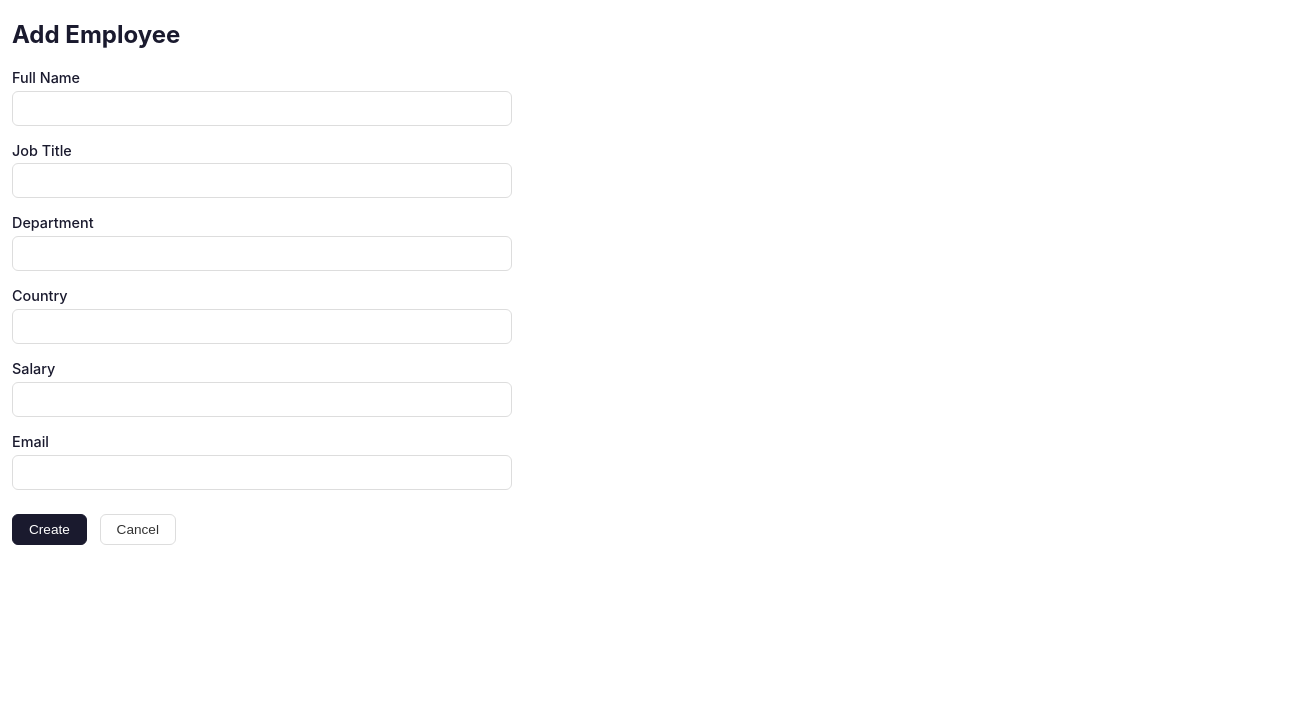
Test case: EmployeeFormPage › Create mode › shows API error string on failure
In the field labelled "Full Name": point(262, 108) [12, 91, 512, 126], type "Alice Smith"
In the field labelled "Job Title": point(262, 181) [12, 163, 512, 198], type "Engineer"
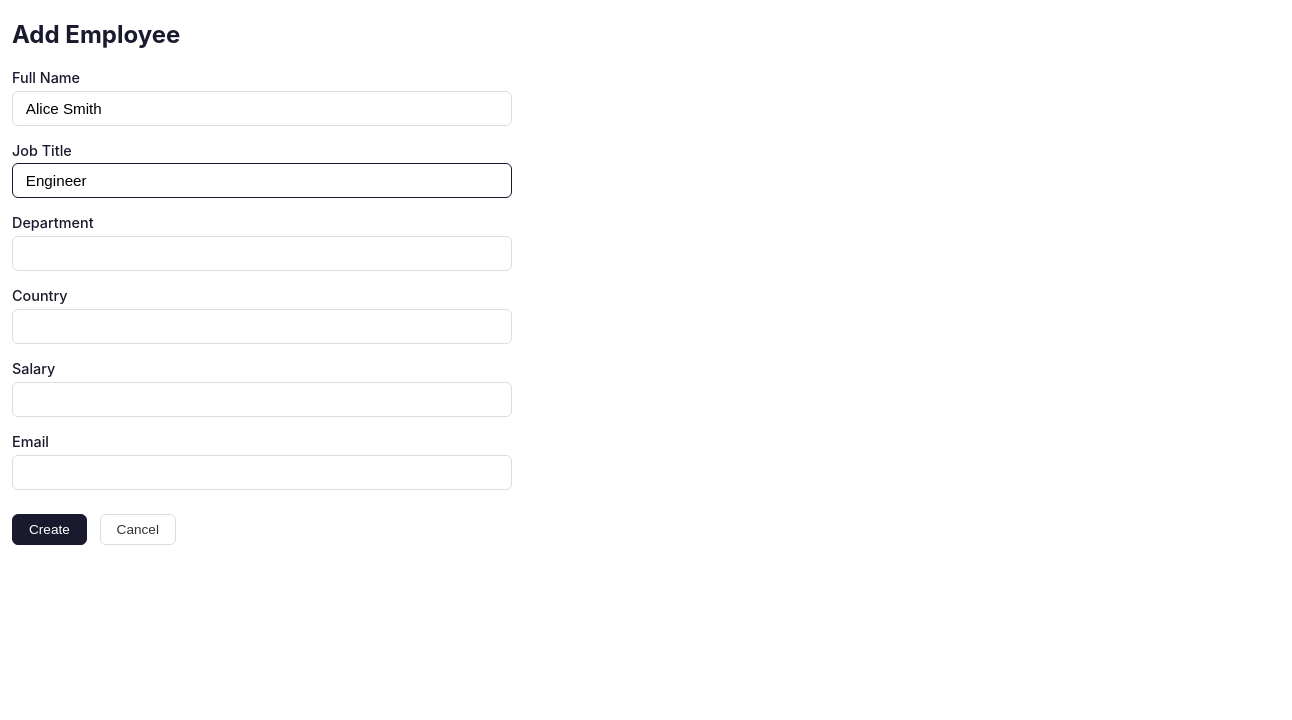
In the field labelled "Department": point(262, 254) [12, 236, 512, 271], type "Engineering"
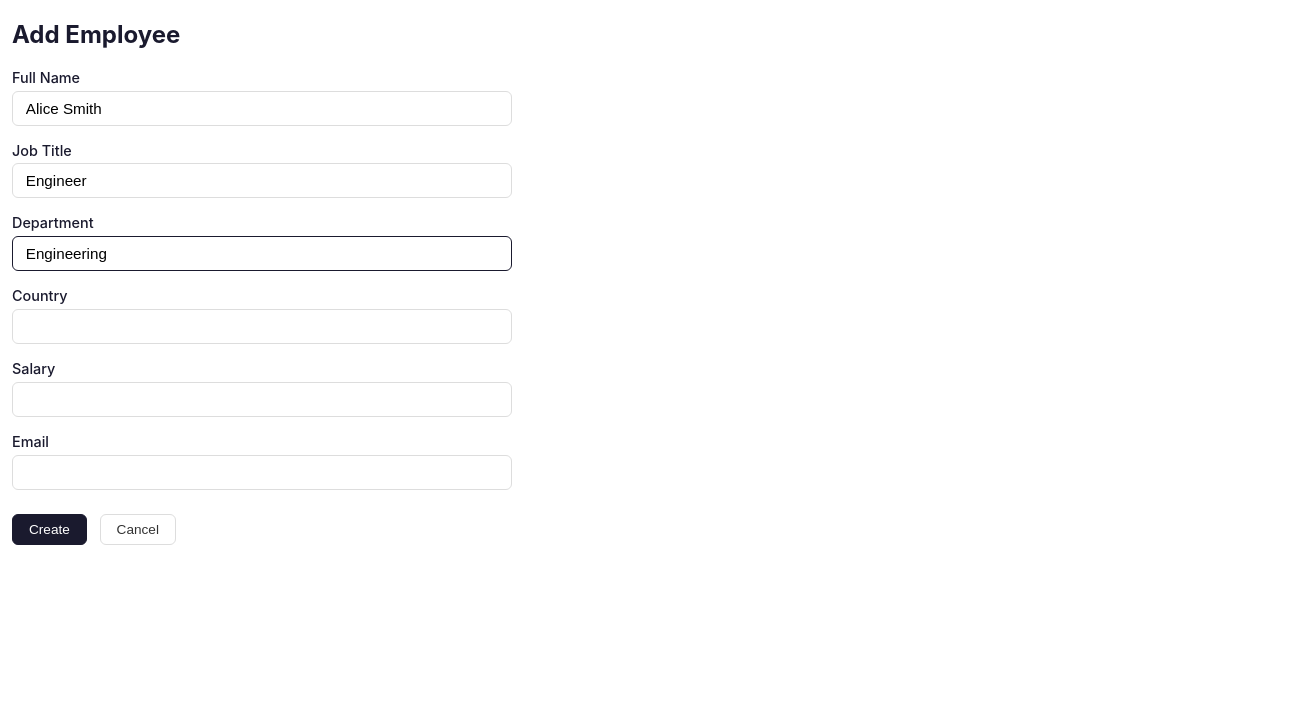
In the field labelled "Country": point(262, 326) [12, 309, 512, 344], type "India"
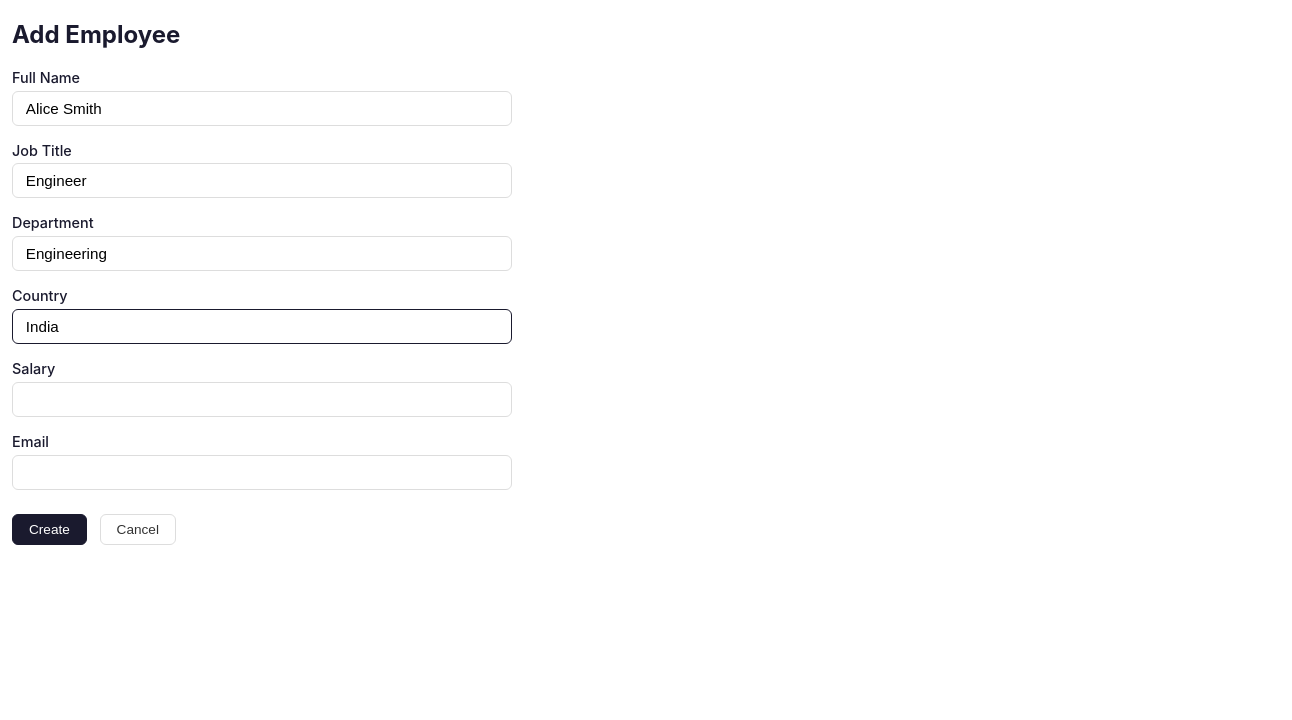
In the number field labelled "Salary": point(262, 399) [12, 382, 512, 417], type "80000"
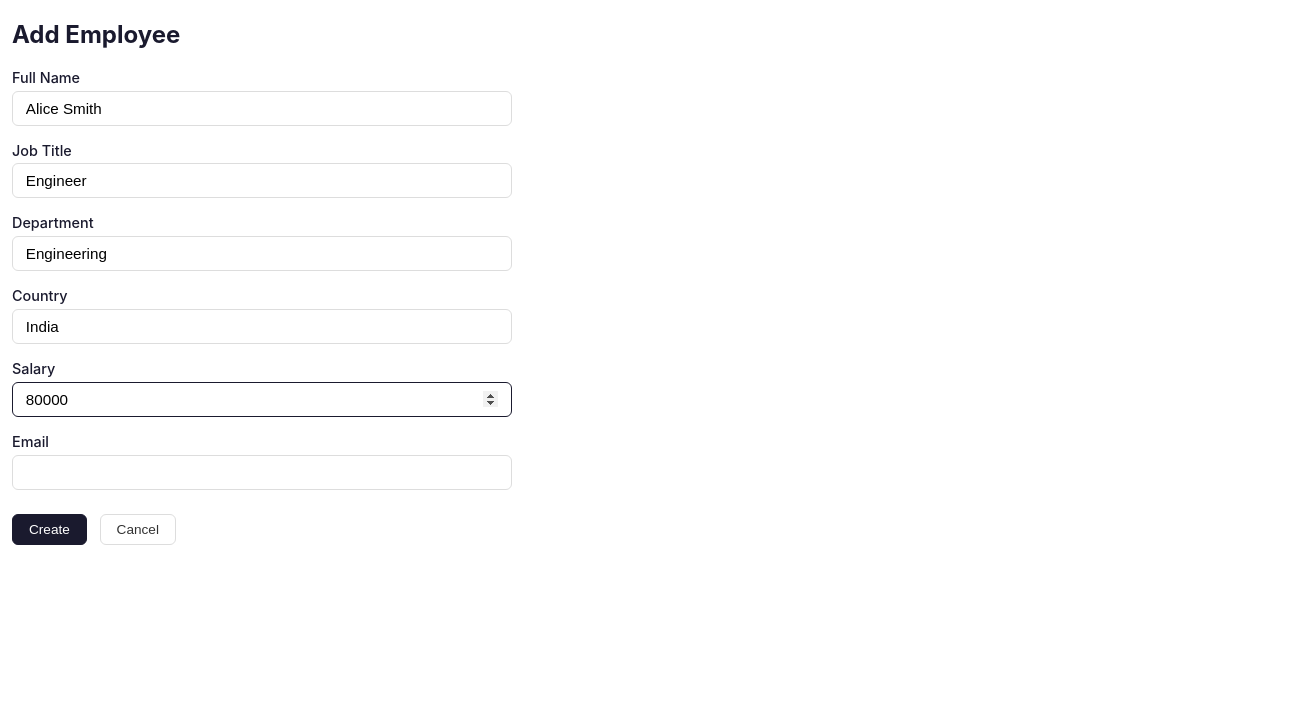
In the field labelled "Email": point(262, 472) [12, 455, 512, 490], type "alice@example.com"
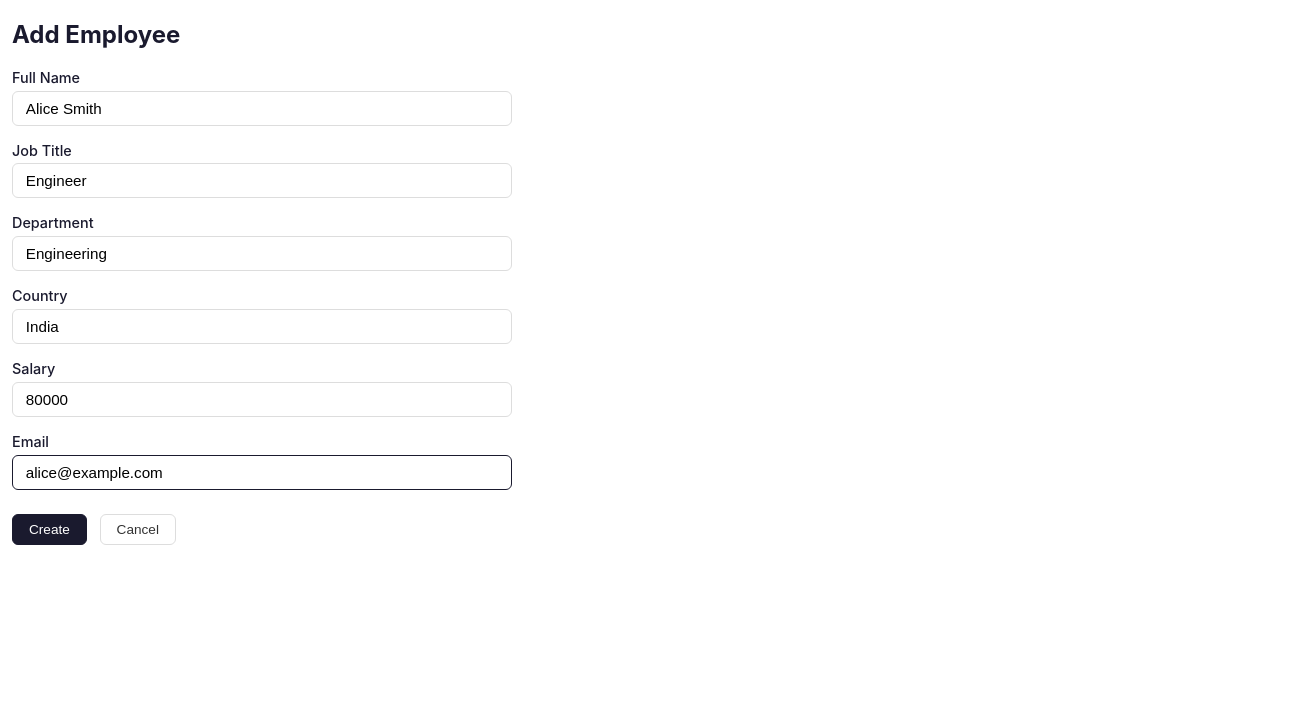
Click the button "Create": point(49, 529) [12, 514, 87, 545]
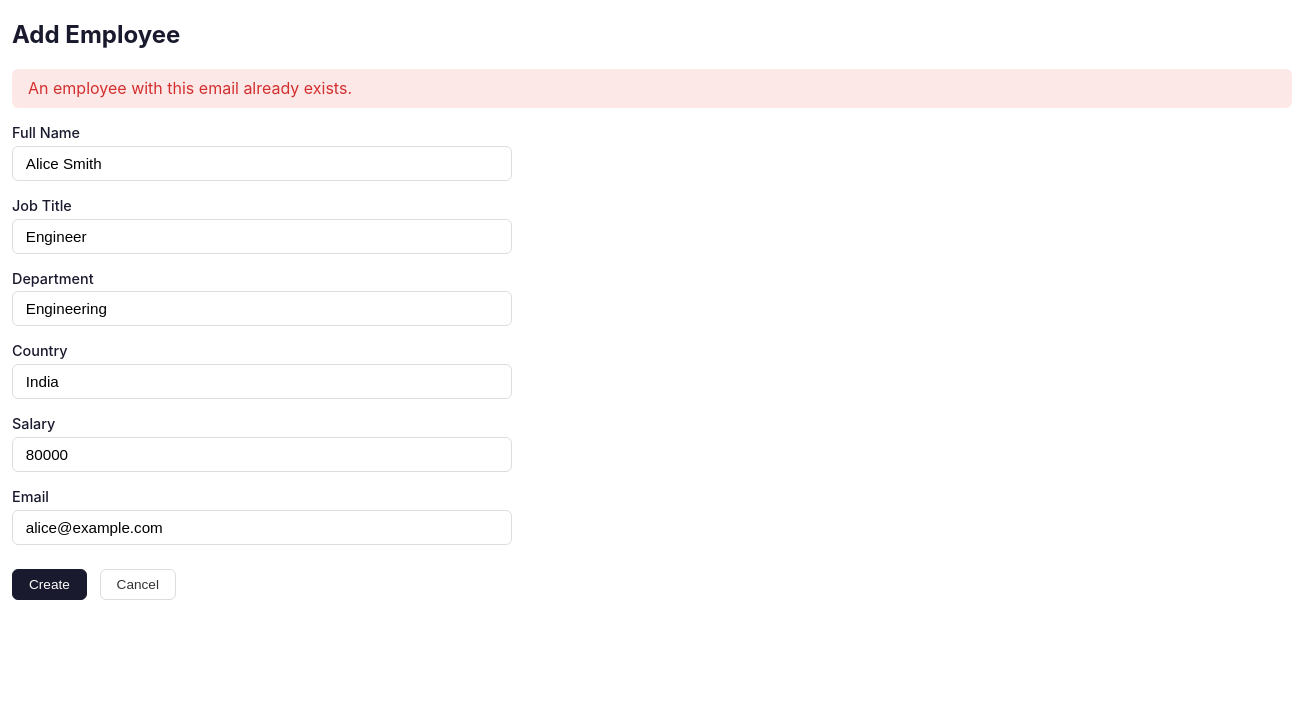
Expected: the text "An employee with this email already exists." is shown, [12, 69, 1291, 108]
